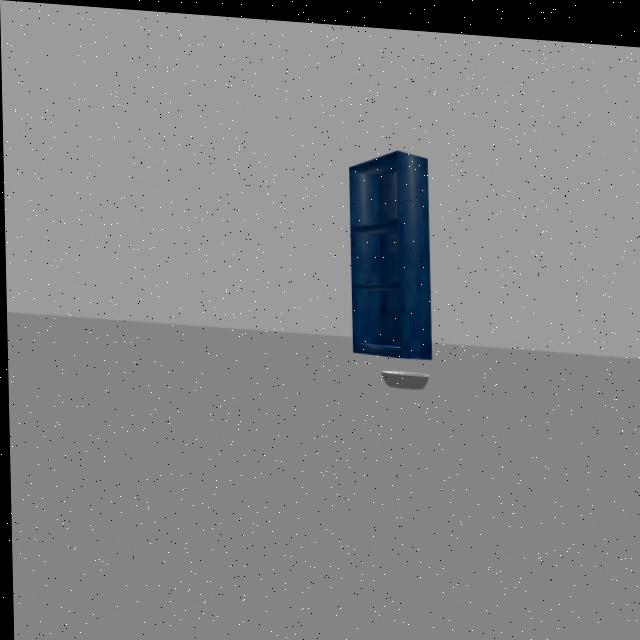bowl: (379, 360, 433, 391)
shelf: (338, 128, 437, 358)
